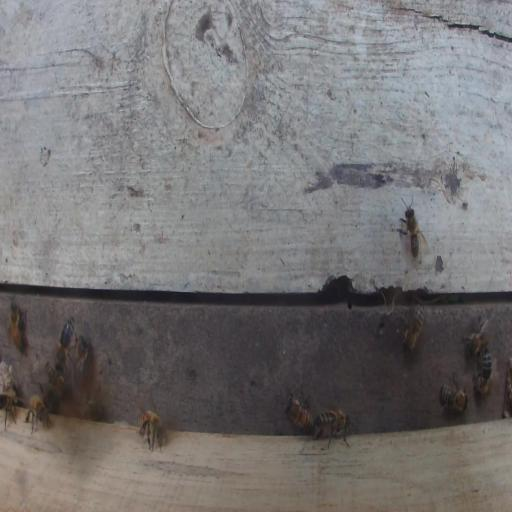bee: (397, 194, 428, 261), (284, 381, 316, 433), (314, 408, 350, 450), (138, 406, 166, 453), (439, 371, 469, 413), (462, 312, 489, 357), (55, 313, 76, 370), (402, 302, 425, 353), (23, 394, 52, 433), (9, 300, 29, 353), (473, 347, 492, 395), (74, 334, 91, 385), (46, 362, 66, 399), (1, 393, 17, 430)
